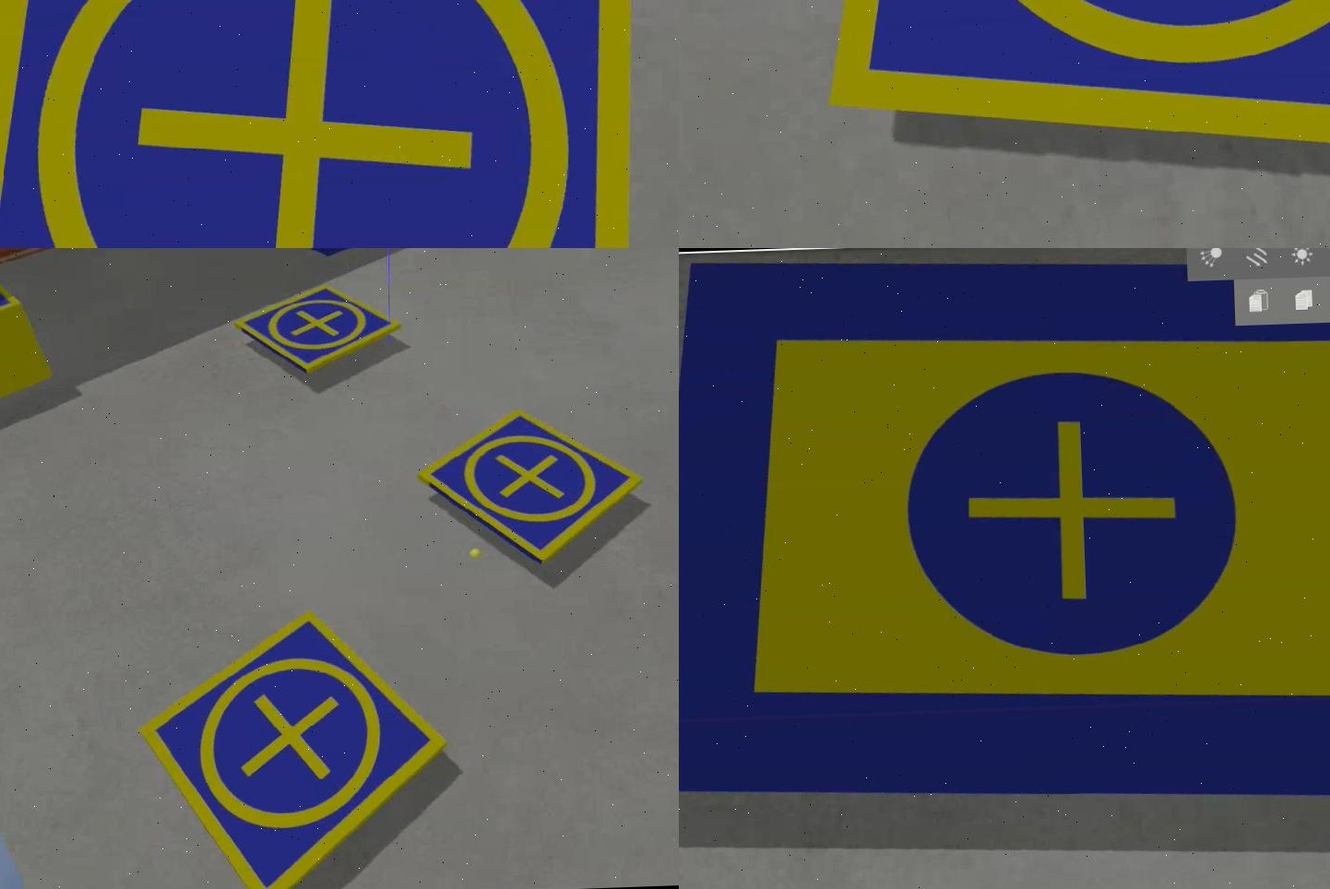large_base: (678, 249, 1328, 827)
small_base: (0, 1, 651, 249), (804, 1, 1328, 185), (136, 605, 452, 889), (413, 406, 646, 571), (230, 280, 400, 380)
